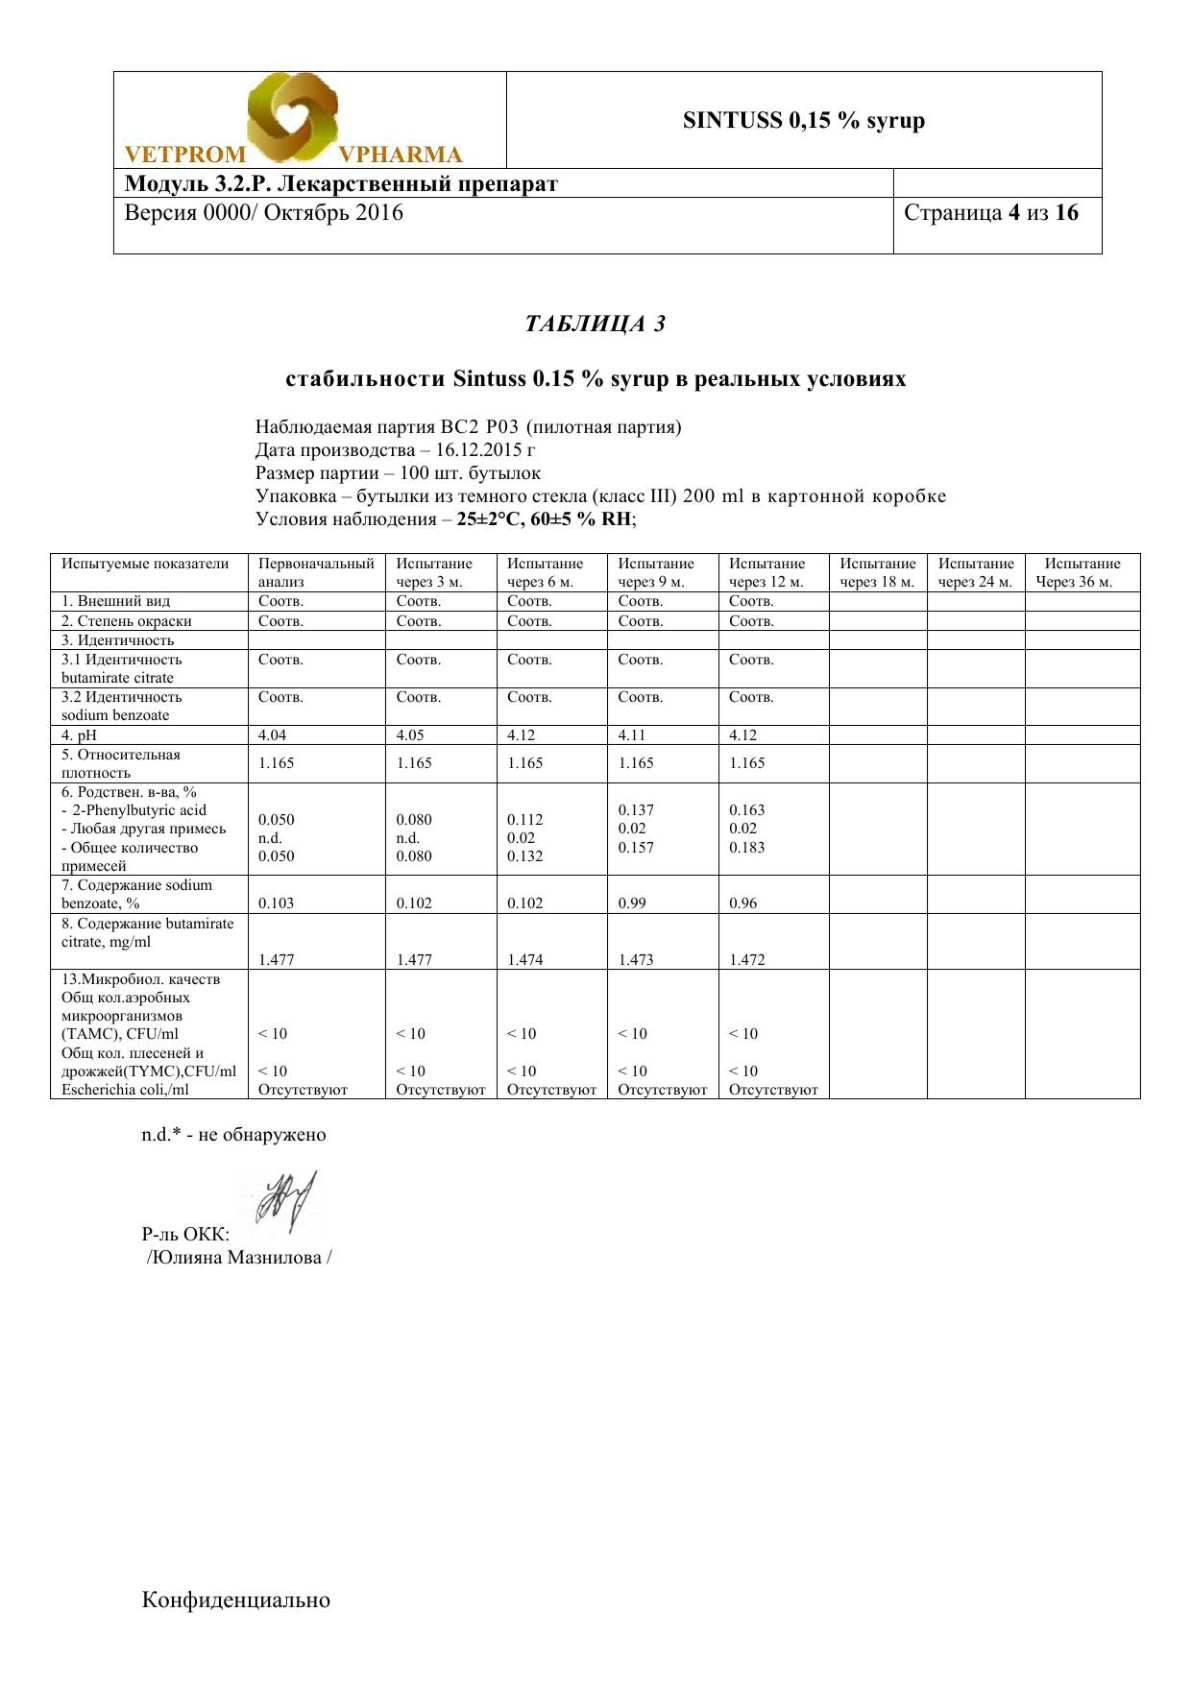full_lined: (49, 551, 1142, 1101)
merged_cells: (111, 68, 1104, 255)
